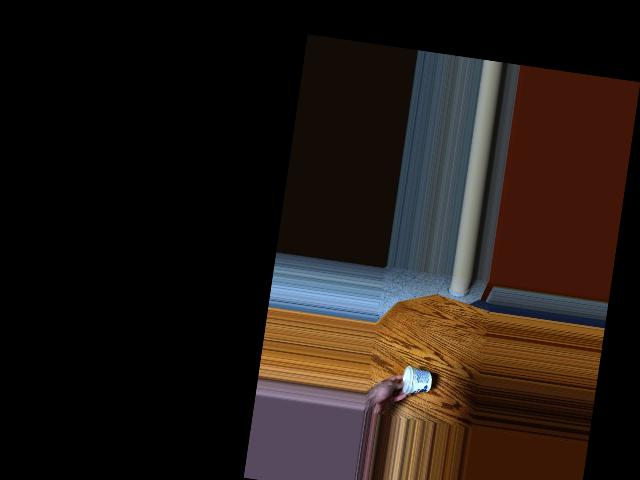cotage: (400, 362, 430, 397)
